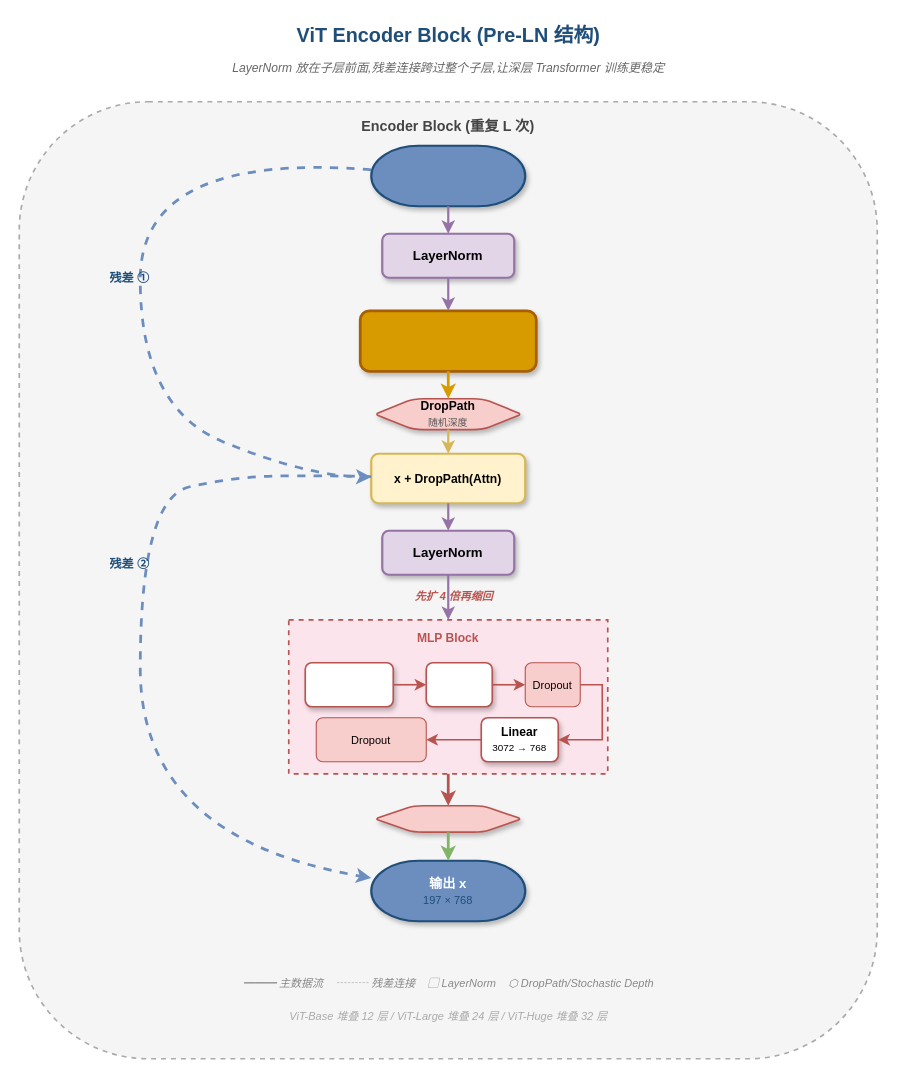
This 898x1078 diagram has some shape labels left out. The shapes that lost their labels are listed below. From the top down, each one's centre as x and y in pixels, then its label:
[448,177]: 输入 x 197 × 768
[449,342]: Multi-Head Self-Attention 12 heads × 64 dim
[350,686]: Linear 768 → 3072
[460,686]: GELU
[449,820]: DropPath
